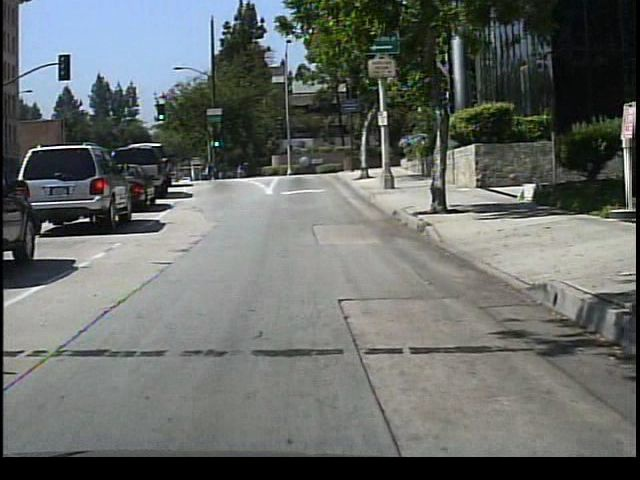person: (207, 158, 221, 182)
